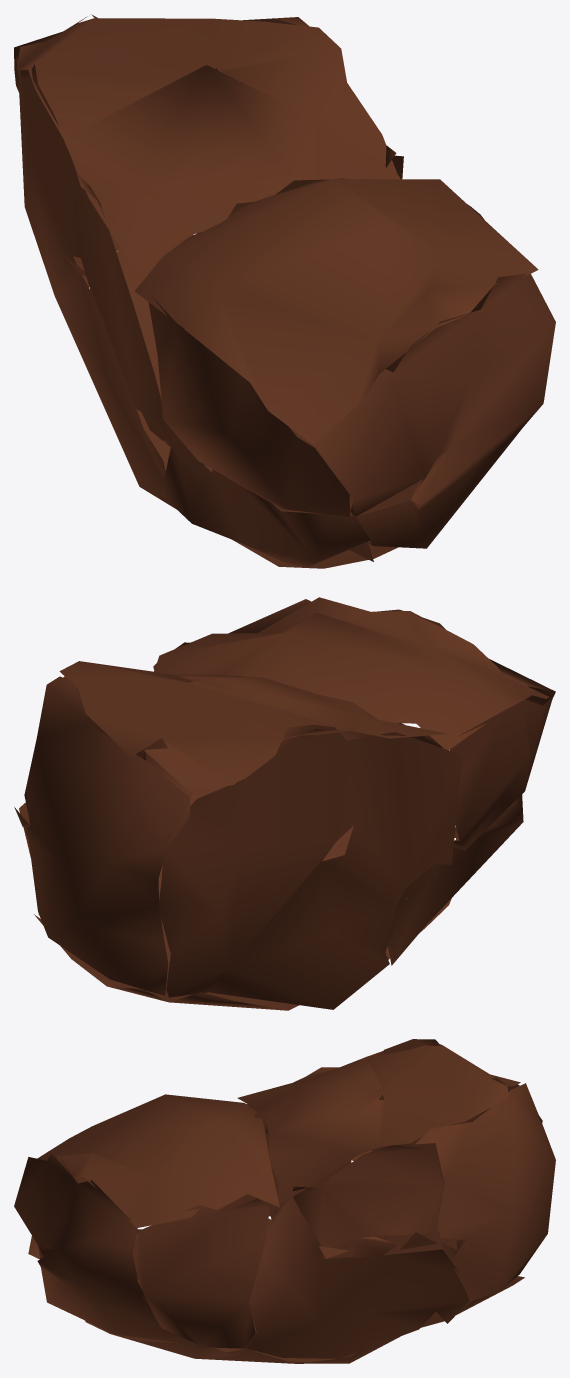
The model's file is mars-rock-large-lod1.glb.
3 views of the same model, one above another, from view 1: azimuth 30°, elevation 25°; view 2: azimuth 150°, elevation 25°; view 3: azimuth 270°, elevation 25° (orthographic). The views are drawn at different scales.
Visible parts, largest first — view 1: mars-rock-large.001; view 2: mars-rock-large.001; view 3: mars-rock-large.001.
Boxes of the visible parts, <box> form: mars-rock-large.001: <box>14,14,555,568</box>; mars-rock-large.001: <box>14,597,555,1010</box>; mars-rock-large.001: <box>14,1039,555,1363</box>.
Size of the model in its own units: 3.28 by 3.24 by 6.03.
